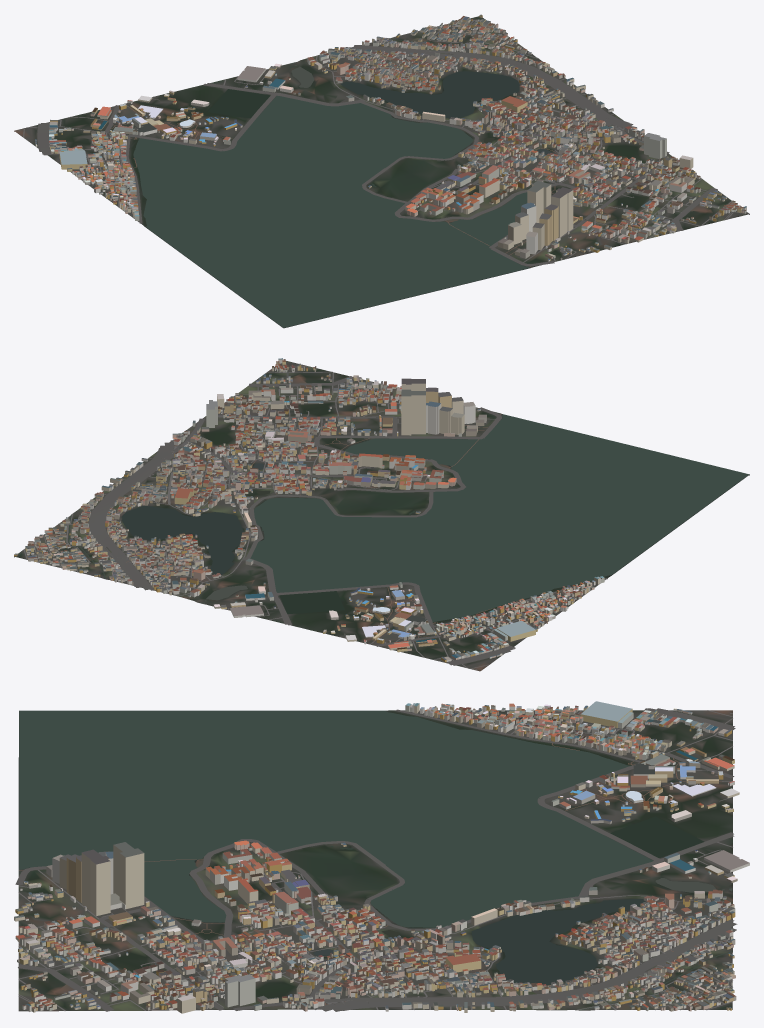
3 views of the same model, one above another, from view 1: azimuth 30°, elevation 25°; view 2: azimuth 150°, elevation 25°; view 3: azimuth 270°, elevation 25° (orthographic). The views are drawn at different scales.
Parts seen in each view (by area): view 1: water, buildings, ground, roads; view 2: water, buildings, ground, roads; view 3: water, buildings, ground, roads.
Boxes of the visible parts, <box> form: water: <box>133,38,551,327</box>; buildings: <box>35,14,746,261</box>; ground: <box>14,16,749,328</box>; roads: <box>19,20,740,267</box>; water: <box>68,414,748,621</box>; buildings: <box>14,358,604,662</box>; ground: <box>14,361,749,671</box>; roads: <box>23,363,607,669</box>; water: <box>19,710,732,1010</box>; buildings: <box>14,701,749,1013</box>; ground: <box>18,710,732,1011</box>; roads: <box>15,708,737,1011</box>.
Size of the model in its own units: 1427 by 116 by 1445.
